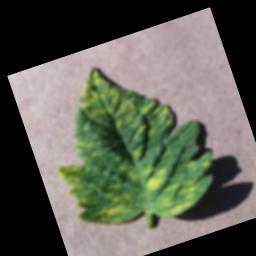Leaf_Mold: (29, 39, 227, 248)
